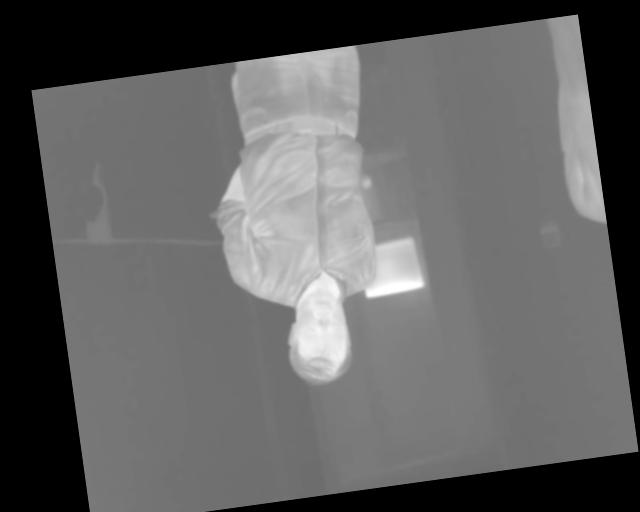face: (279, 284, 358, 389)
